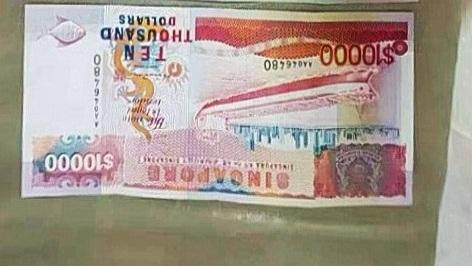10000SingaporeDollar: (27, 14, 413, 194)
